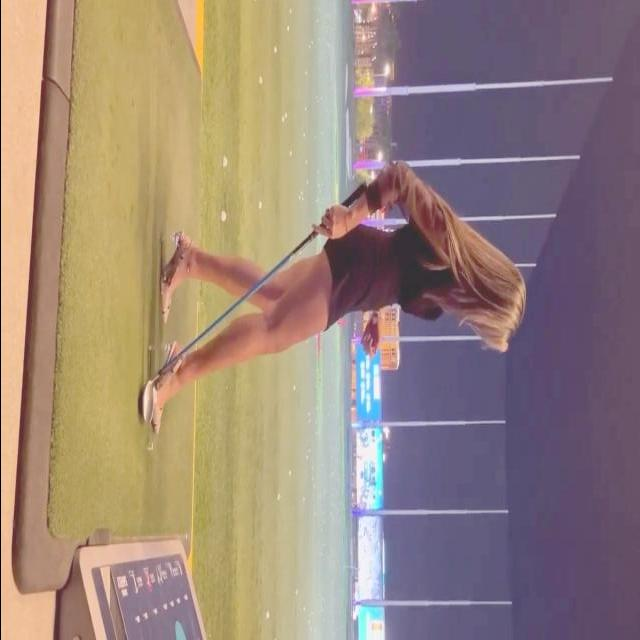golf club-handle: (141, 181, 367, 424)
golf club-head: (142, 379, 153, 422)
